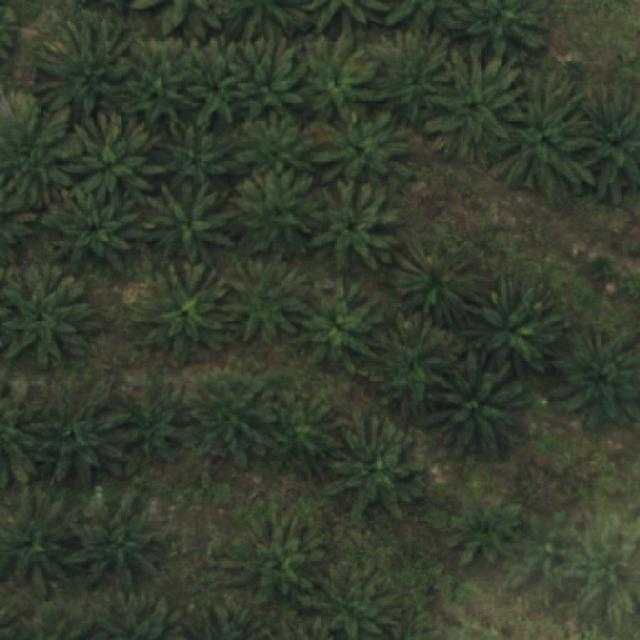Kelapa_Sawit: (488, 68, 600, 204), (20, 370, 132, 492), (422, 47, 528, 164), (321, 406, 425, 522), (66, 486, 166, 605), (420, 363, 532, 465), (33, 17, 142, 121), (62, 110, 165, 216), (368, 310, 464, 422), (0, 261, 98, 370), (468, 274, 567, 381), (132, 262, 240, 360), (190, 363, 282, 472), (288, 274, 384, 374), (305, 177, 401, 274), (390, 232, 484, 330), (218, 256, 312, 350), (230, 168, 322, 260), (145, 178, 240, 267), (226, 511, 316, 603), (300, 34, 388, 124), (110, 376, 187, 478), (374, 29, 457, 123), (119, 36, 198, 132), (315, 554, 402, 640), (49, 189, 137, 274), (267, 388, 347, 480), (312, 114, 412, 184), (228, 34, 307, 121), (505, 509, 580, 600), (155, 114, 236, 197), (232, 107, 322, 178), (445, 491, 523, 569), (185, 35, 250, 128)
